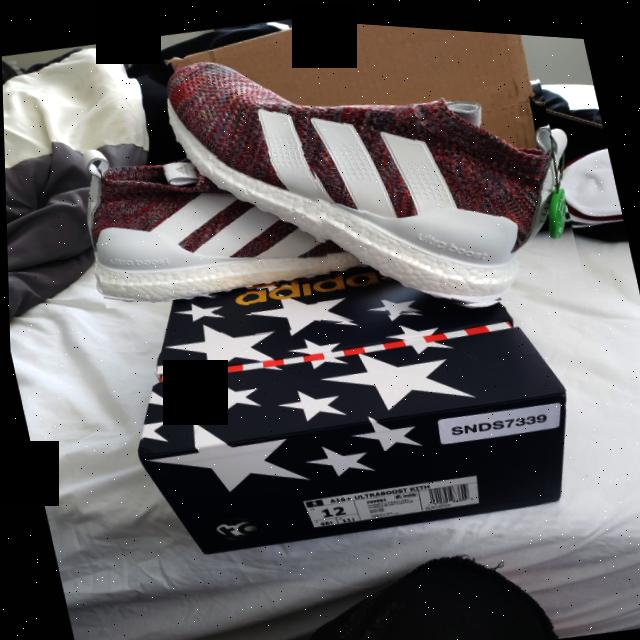shoe: (158, 8, 587, 355), (75, 128, 339, 320)
